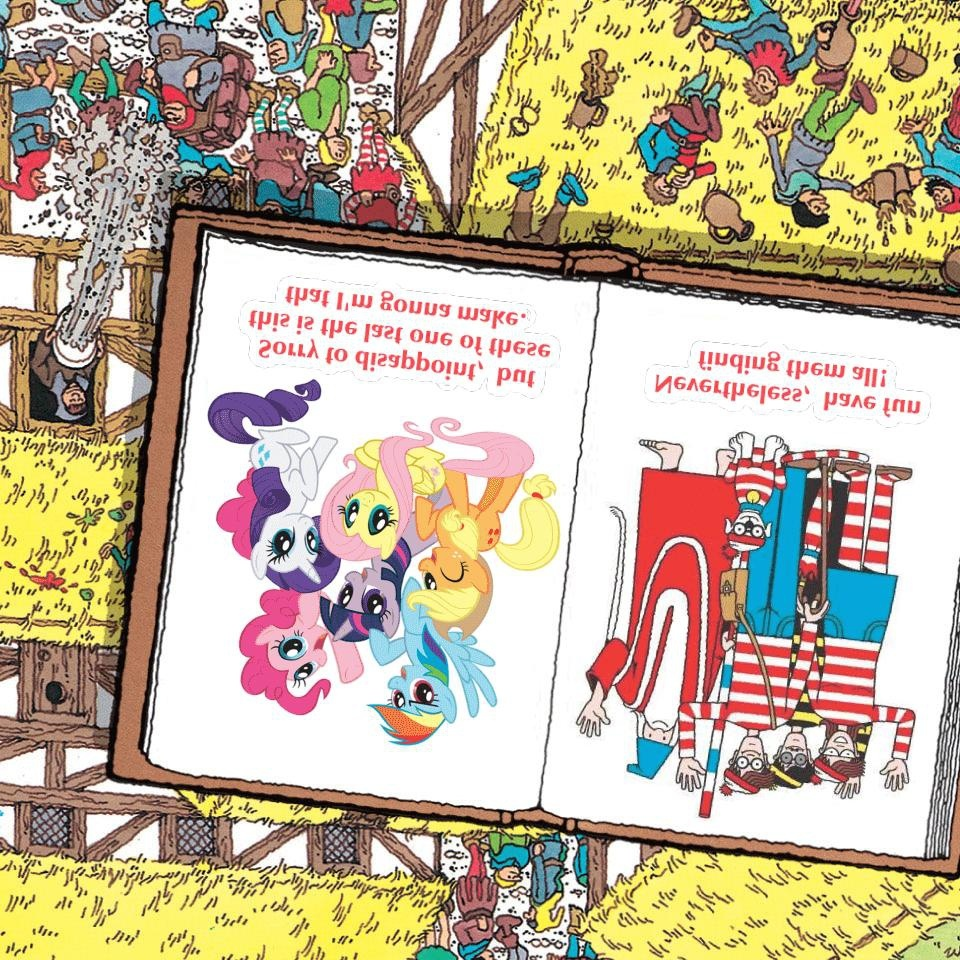waldo: (678, 568, 780, 798)
